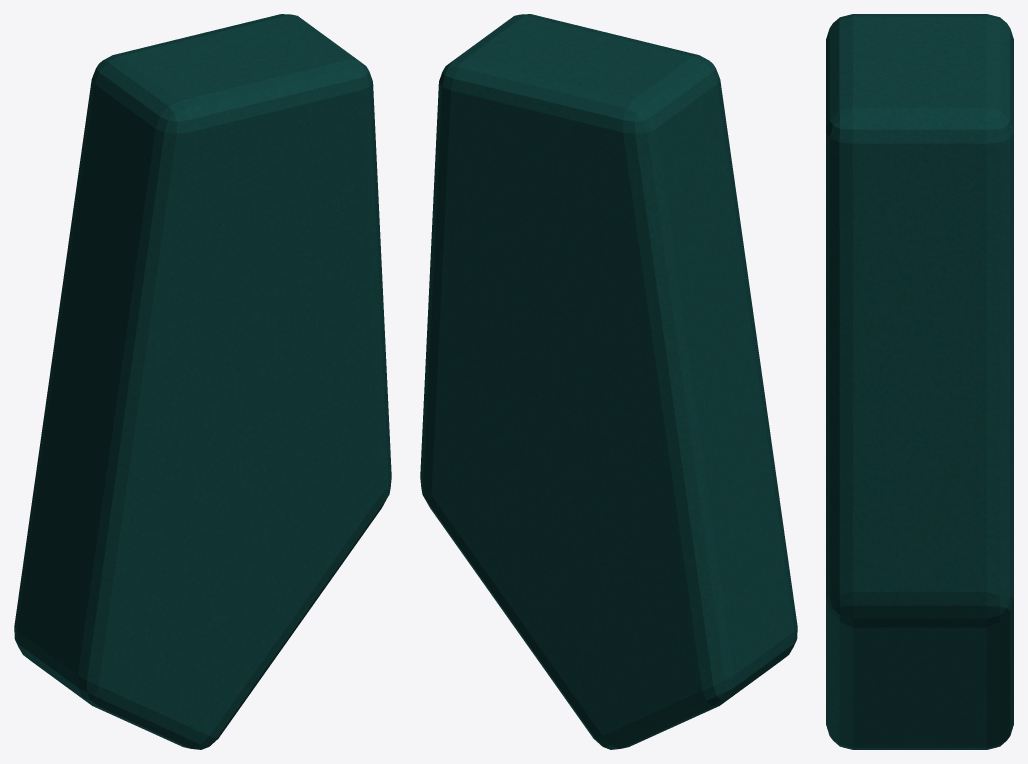
The model's file is mote03.trigger.glb.
3 renders of one model, left to right at view 1: azimuth 30°, elevation 25°; view 2: azimuth 150°, elevation 25°; view 3: azimuth 270°, elevation 25°, orthographic. The views are drawn at different scales.
Visible parts, largest first — view 1: VIS_mote03_trigger; view 2: VIS_mote03_trigger; view 3: VIS_mote03_trigger.
Part boxes in pixels (<box>): VIS_mote03_trigger: <box>14,14,391,749</box>; VIS_mote03_trigger: <box>420,14,797,749</box>; VIS_mote03_trigger: <box>826,14,1013,749</box>.
Bounding box in the file's own units: 0.0148 × 0.0296 × 0.007.
Materials: 1 (1 with a texture image).
